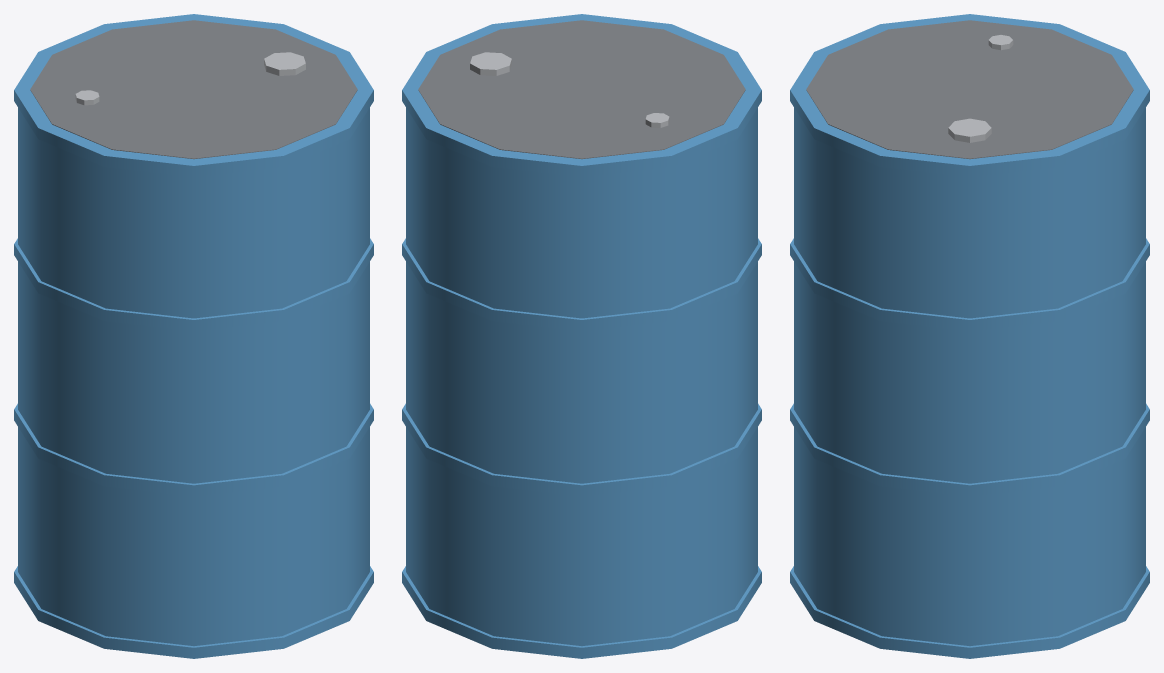
Rendered from tambor.glb.
3 views of the same model, side by side, from view 1: azimuth 30°, elevation 25°; view 2: azimuth 150°, elevation 25°; view 3: azimuth 270°, elevation 25° (orthographic).
Parts seen in each view (by area): view 1: corpo; view 2: corpo; view 3: corpo.
Boxes of the visible parts, bbox=[...] form: corpo: bbox=[14, 14, 373, 658]; corpo: bbox=[402, 14, 761, 658]; corpo: bbox=[790, 14, 1149, 658].
Bounding box in the file's own units: 0.582 × 0.892 × 0.582.
